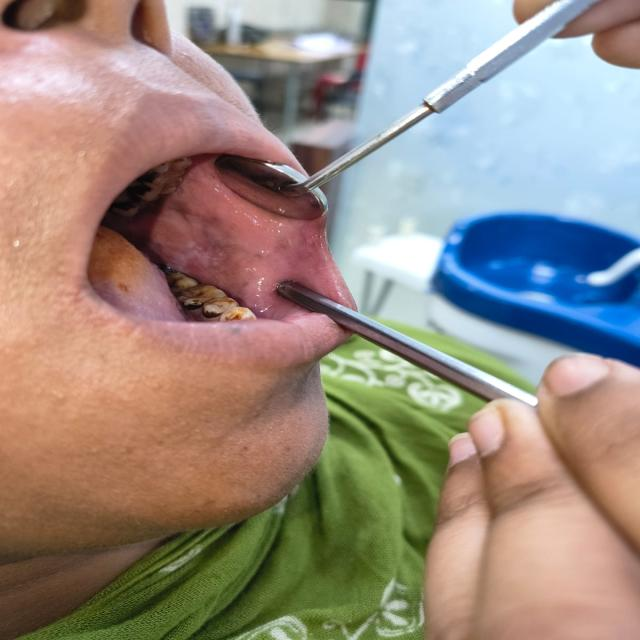leukoplakia-like-detection: (145, 213, 273, 305)
processing_area: (139, 163, 336, 318), (89, 228, 190, 325)
